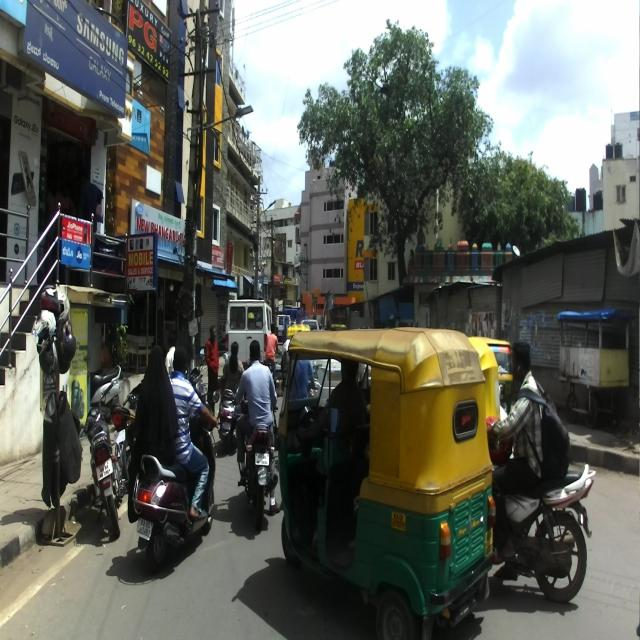autorickshaw: (274, 326, 498, 639)
motorcycle: (487, 437, 596, 601), (77, 382, 126, 539), (231, 395, 278, 531)
scooter: (132, 399, 217, 568), (217, 352, 251, 455), (90, 364, 122, 424)
